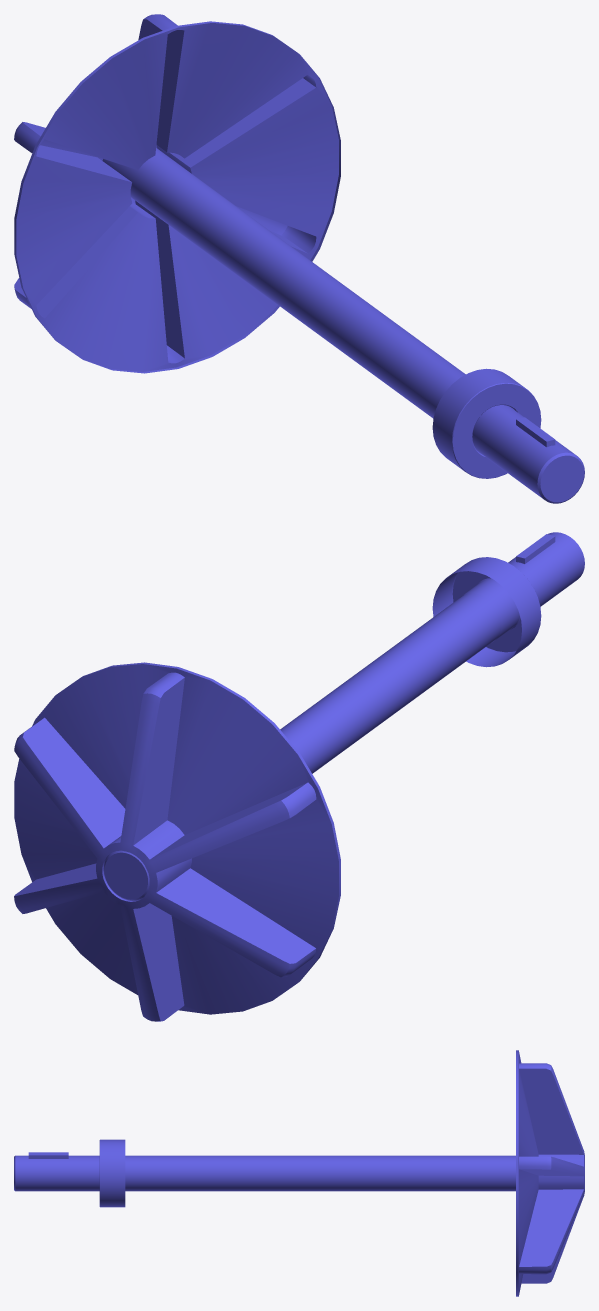
Rendered from Rotor.fbx.
3 views of the same model, one above another, from view 1: azimuth 30°, elevation 25°; view 2: azimuth 150°, elevation 25°; view 3: azimuth 270°, elevation 25° (orthographic). The views are drawn at different scales.
Visible parts, largest first — view 1: parts.003; view 2: parts.003; view 3: parts.003.
Boxes of the visible parts, left/top/right/bottom form: parts.003: left=14, top=14, right=584, bottom=503; parts.003: left=14, top=532, right=584, bottom=1021; parts.003: left=14, top=1050, right=584, bottom=1296.
Bounding box in the file's own units: 82.23 × 82.69 × 191.
